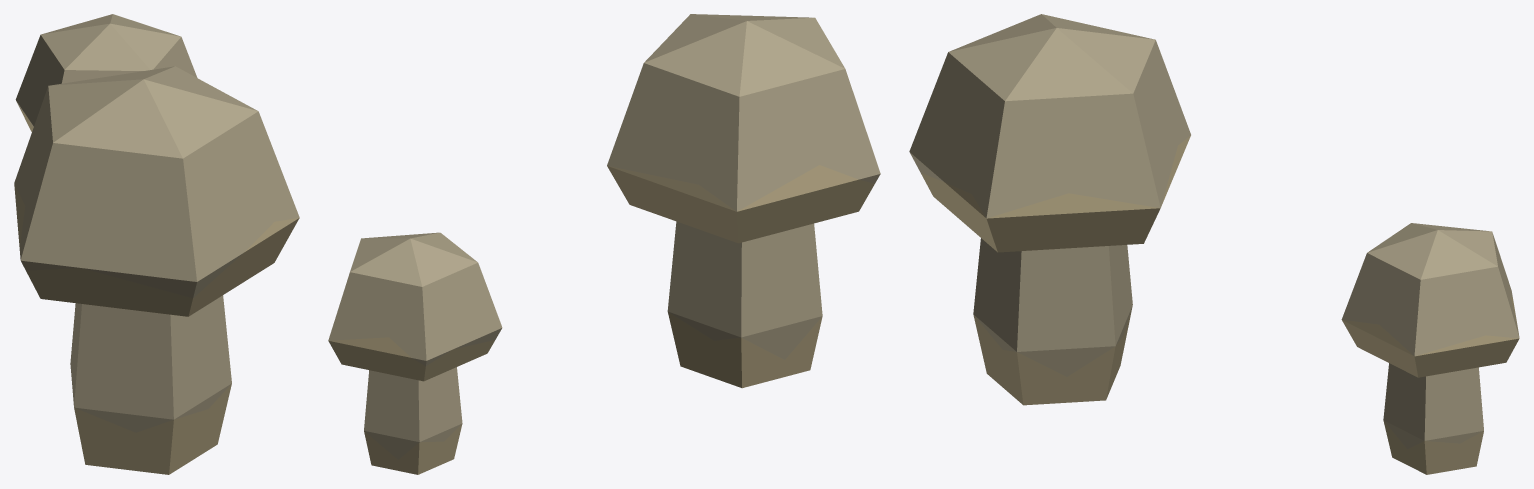
File: Mushroom_06.FBX
3 views of the same model, side by side, from view 1: azimuth 30°, elevation 25°; view 2: azimuth 150°, elevation 25°; view 3: azimuth 270°, elevation 25° (orthographic). The views are drawn at different scales.
Visible parts, largest first — view 1: Mushroom_06; view 2: Mushroom_06; view 3: Mushroom_06.
Boxes of the visible parts, box(x1,y1,x2,y2) form: Mushroom_06: box(14, 14, 299, 474); Mushroom_06: box(328, 14, 880, 474); Mushroom_06: box(909, 14, 1519, 474).
Size of the model in its own units: 0.5024 by 0.458 by 0.7218.
